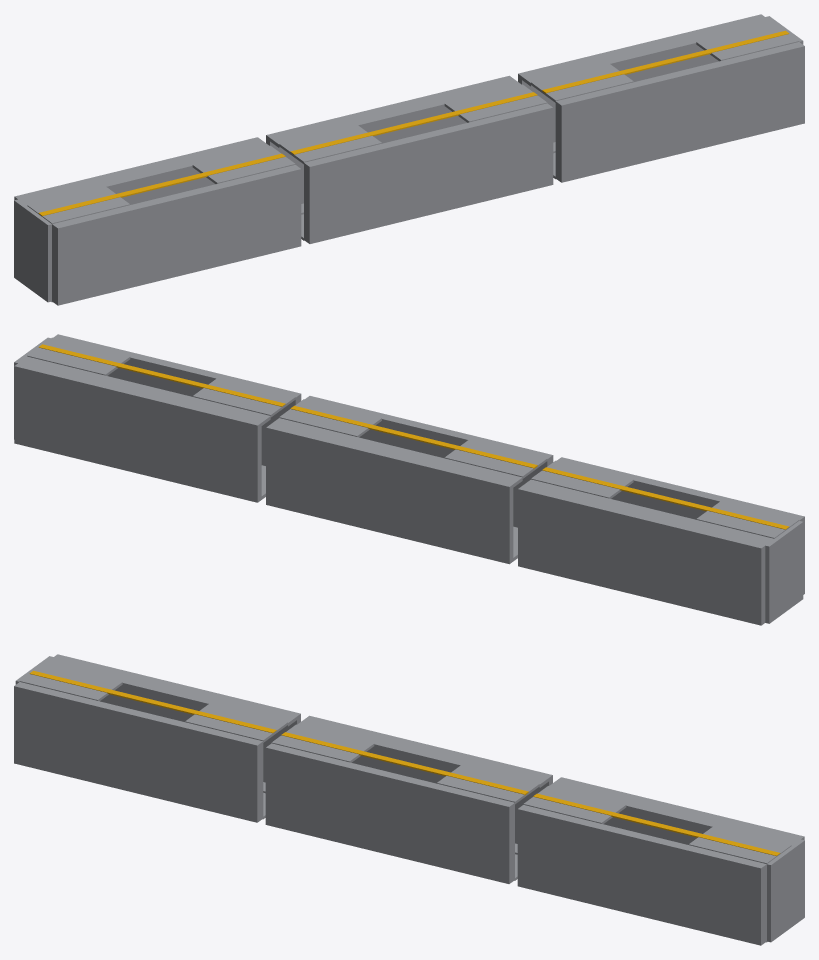
The model's file is metro_train_yellow_open.obj.
The picture shows the model from 3 angles, top to bottom: view 1: azimuth 30°, elevation 25°; view 2: azimuth 150°, elevation 25°; view 3: azimuth 330°, elevation 25°; orthographic projection.
Visible parts, largest first — view 1: metro_train_yellow_open; view 2: metro_train_yellow_open; view 3: metro_train_yellow_open.
Part boxes in pixels (left/top/right/bottom): metro_train_yellow_open: left=14, top=14, right=804, bottom=305; metro_train_yellow_open: left=14, top=334, right=804, bottom=625; metro_train_yellow_open: left=14, top=654, right=804, bottom=945.
Size of the model in its own units: 9 by 0.91 by 0.9.
